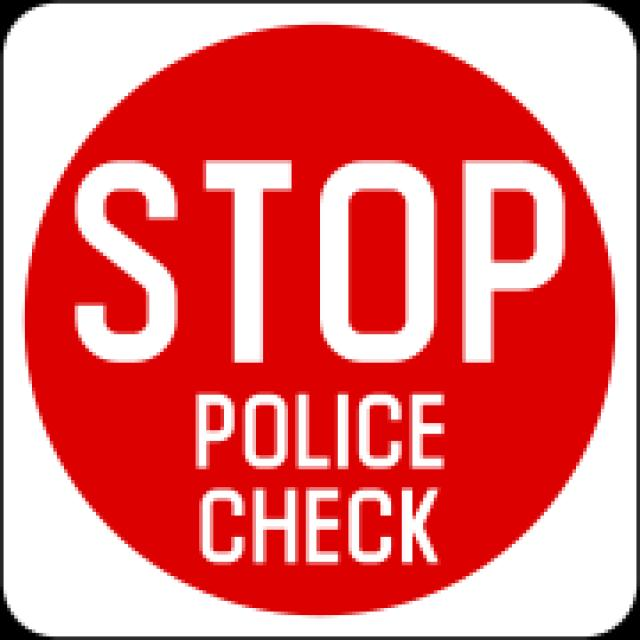Traffic sign: (66, 32, 589, 617)
